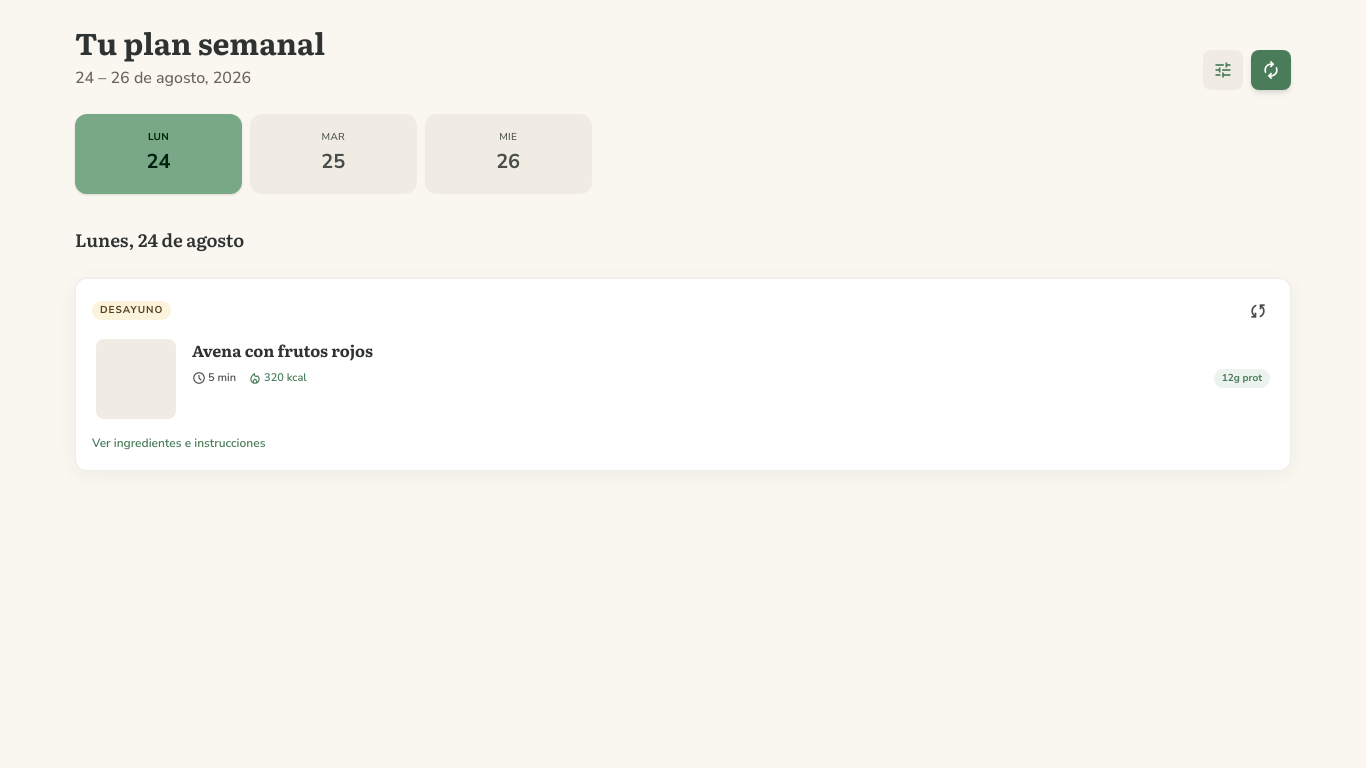
Test: MealPlanPage › expands the inline recipe accordion for a meal without losing the selected day
The image size is (1366, 768).
Expected: the text "Avena con frutos rojos" is shown, [192,338,373,362]
aria-expanded distingue el botón del acordeón del botón de reemplazar
Click the button "Ver ingredientes e instrucciones" at point(179, 442), box [92,434,265,450]
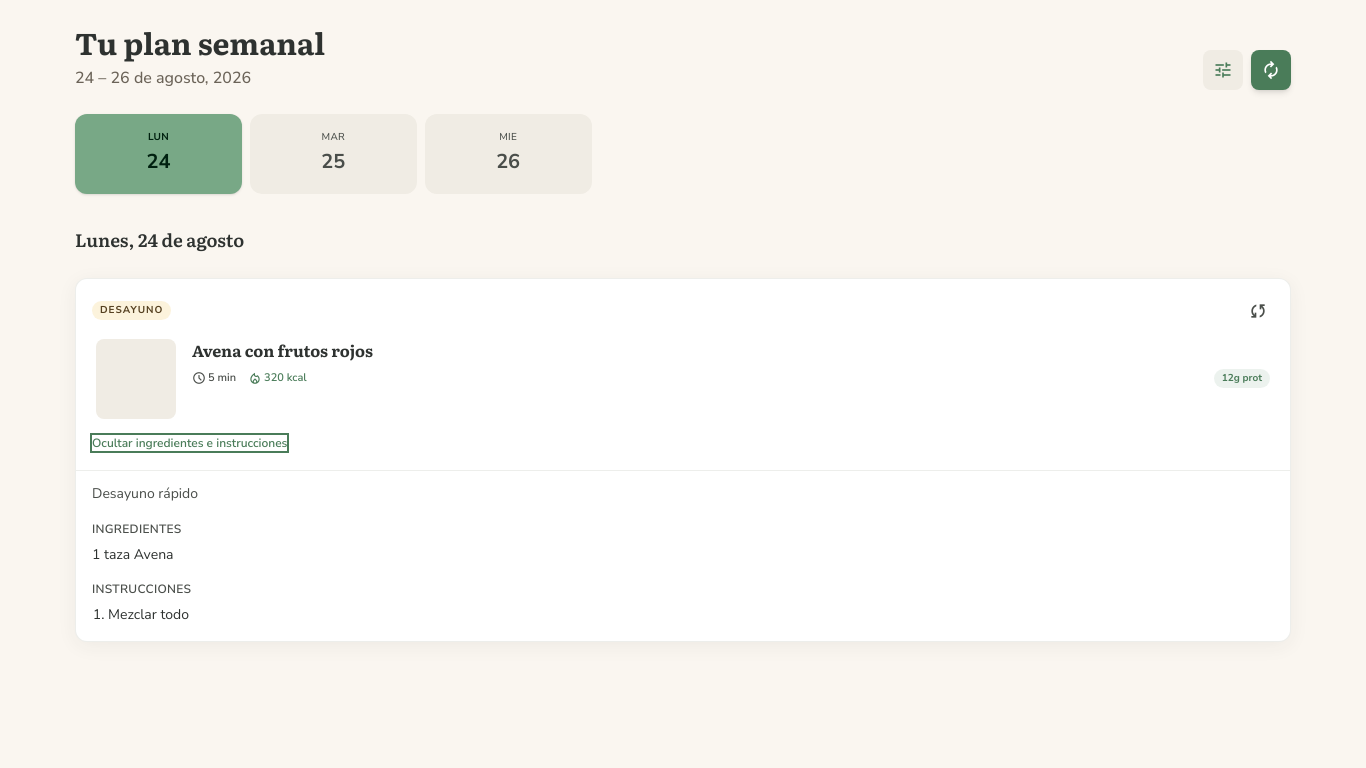
Expected: the list item "Mezclar todo" is shown, [108,605,189,624]
